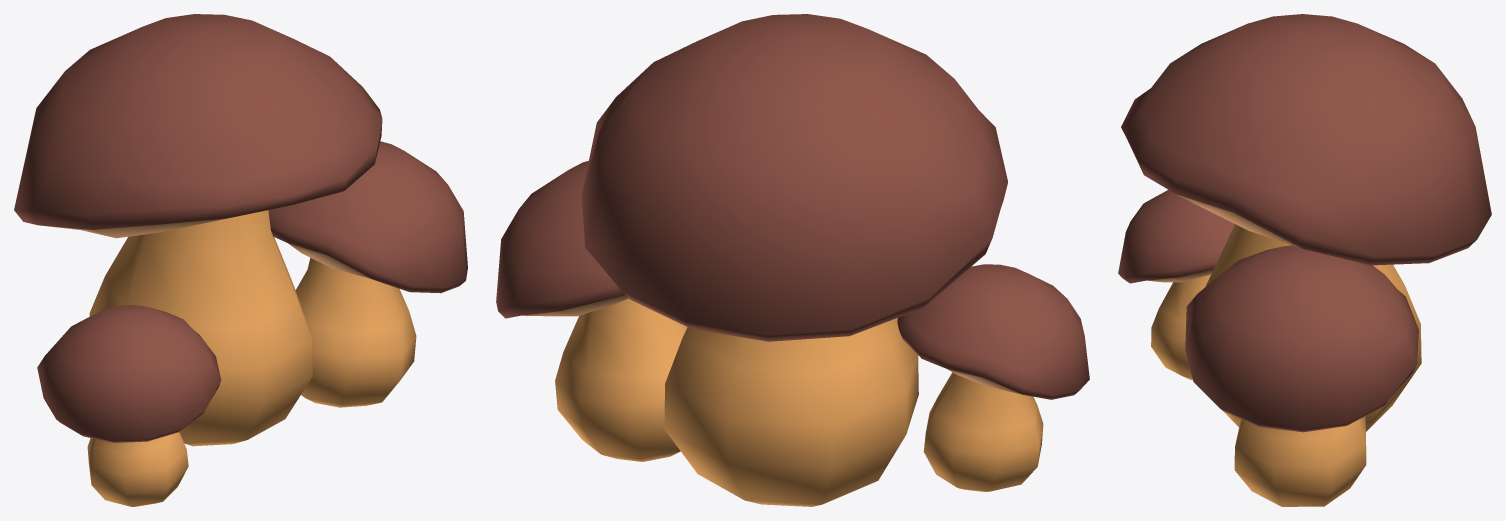
The model's file is Mushroom_02.2.fbx.
The picture shows the model from 3 angles, left to right: view 1: azimuth 30°, elevation 25°; view 2: azimuth 150°, elevation 25°; view 3: azimuth 270°, elevation 25°; orthographic projection. The views are drawn at different scales.
Visible parts, largest first — view 1: Mushroom_02.2; view 2: Mushroom_02.2; view 3: Mushroom_02.2.
Boxes of the visible parts, bbox=[...] form: Mushroom_02.2: bbox=[14, 14, 467, 506]; Mushroom_02.2: bbox=[496, 14, 1089, 506]; Mushroom_02.2: bbox=[1118, 14, 1491, 506].
Bounding box in the file's own units: 49.18 × 35.89 × 42.1.
